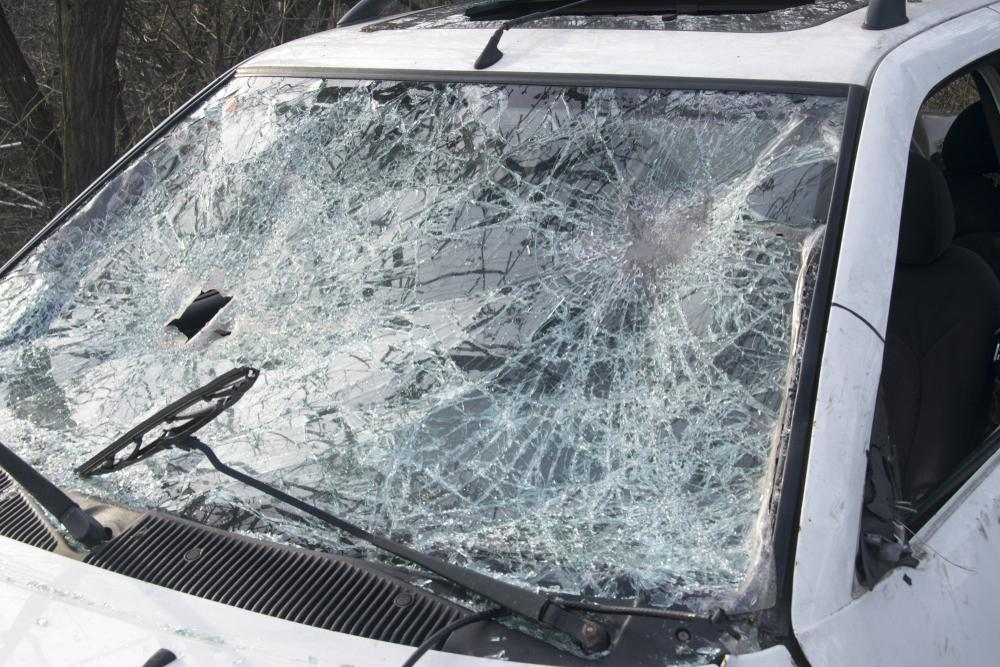glass shatter: (0, 72, 849, 610)
